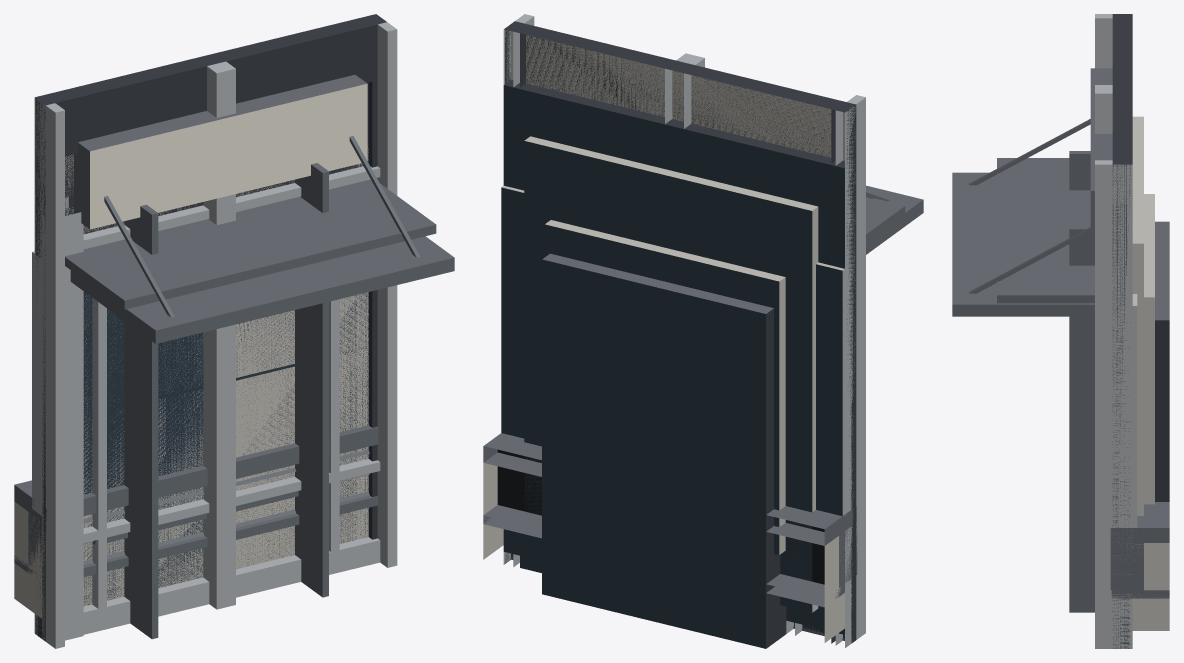
Rendered from modern.glb.
3 views of the same model, side by side, from view 1: azimuth 30°, elevation 25°; view 2: azimuth 150°, elevation 25°; view 3: azimuth 270°, elevation 25° (orthographic). The views are drawn at different scales.
Visible parts, largest first — view 1: modern__g_shop, modern__g_lobby, modern__curtain, modern__g_entry, modern__fins, modern__blank, modern__cap, modern__corner, modern__punched, modern__spandrel, modern__cap_screen, modern__ribbon (+1 smaller); view 2: modern__g_entry, modern__g_glass, modern__g_lobby, modern__ribbon, modern__g_shop, modern__punched, modern__cap, modern__cap_screen; view 3: modern__g_lobby, modern__g_shop, modern__g_entry, modern__fins, modern__curtain, modern__ribbon, modern__cap, modern__g_glass, modern__punched, modern__cap_screen.
Boxes of the visible parts, bbox=[...] form: modern__g_shop: bbox=[35, 19, 436, 641]; modern__g_lobby: bbox=[34, 14, 397, 648]; modern__curtain: bbox=[42, 157, 380, 644]; modern__g_entry: bbox=[70, 136, 454, 631]; modern__fins: bbox=[124, 163, 328, 639]; modern__blank: bbox=[69, 152, 368, 605]; modern__cap: bbox=[14, 425, 380, 634]; modern__corner: bbox=[65, 208, 83, 640]; modern__punched: bbox=[69, 208, 368, 605]; modern__spandrel: bbox=[65, 166, 380, 604]; modern__cap_screen: bbox=[14, 450, 378, 605]; modern__ribbon: bbox=[32, 150, 377, 604]; modern__g_entry: bbox=[503, 85, 923, 648]; modern__g_glass: bbox=[511, 31, 844, 612]; modern__g_lobby: bbox=[503, 14, 865, 647]; modern__ribbon: bbox=[501, 185, 852, 636]; modern__g_shop: bbox=[505, 21, 905, 643]; modern__punched: bbox=[510, 220, 844, 640]; modern__cap: bbox=[483, 433, 856, 642]; modern__cap_screen: bbox=[483, 449, 857, 607]; modern__g_lobby: bbox=[1095, 14, 1132, 648]; modern__g_shop: bbox=[997, 14, 1130, 648]; modern__g_entry: bbox=[952, 119, 1169, 501]; modern__fins: bbox=[1069, 151, 1094, 612]; modern__curtain: bbox=[1104, 265, 1119, 648]; modern__ribbon: bbox=[1119, 294, 1137, 535]; modern__cap: bbox=[1111, 502, 1169, 630]; modern__g_glass: bbox=[1132, 116, 1143, 515]; modern__punched: bbox=[1144, 194, 1154, 504]; modern__cap_screen: bbox=[1110, 528, 1169, 598].
Bounding box in the file's own units: 3.2 × 4.8 × 1.95.
